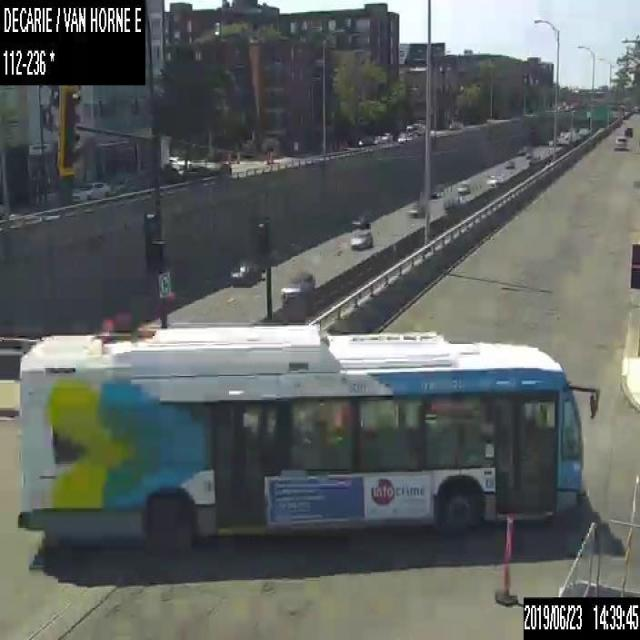bus: (17, 320, 599, 552)
construction: (493, 514, 520, 606), (636, 487, 639, 521)
vehicle: (280, 271, 315, 307), (229, 254, 264, 286), (72, 179, 111, 200), (350, 230, 372, 250), (167, 154, 189, 169), (406, 202, 426, 217), (456, 178, 471, 194), (351, 216, 369, 228), (485, 173, 503, 184), (613, 134, 626, 149), (379, 131, 392, 143), (528, 154, 540, 166), (397, 131, 409, 141), (504, 158, 515, 167), (516, 146, 526, 154), (624, 126, 632, 136)
